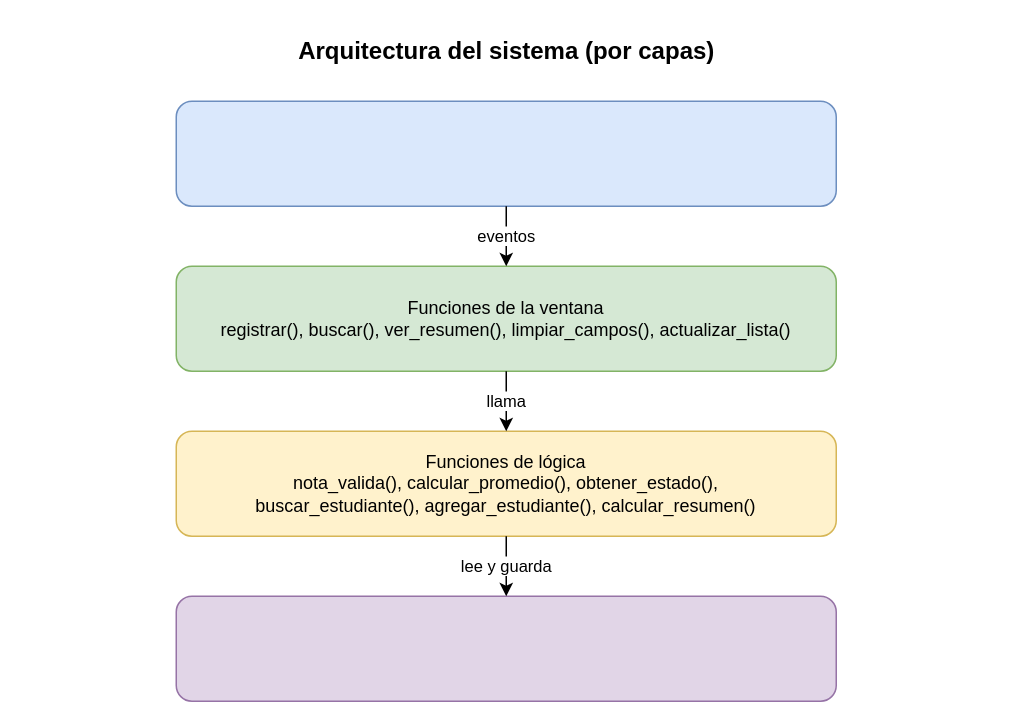
Image size: 1011x728. Some labels were removed from this diagram. The shapes that lost their labels are listed below. From the top down, each one's centre as x and y in pixels, then its label:
(x=505, y=153): Interfaz (tkinter) Ventana, cuadros de texto, botones, lista y messagebox
(x=505, y=648): Datos en memoria Lista "estudiantes" de diccionarios y tupla EVALUACIONES
